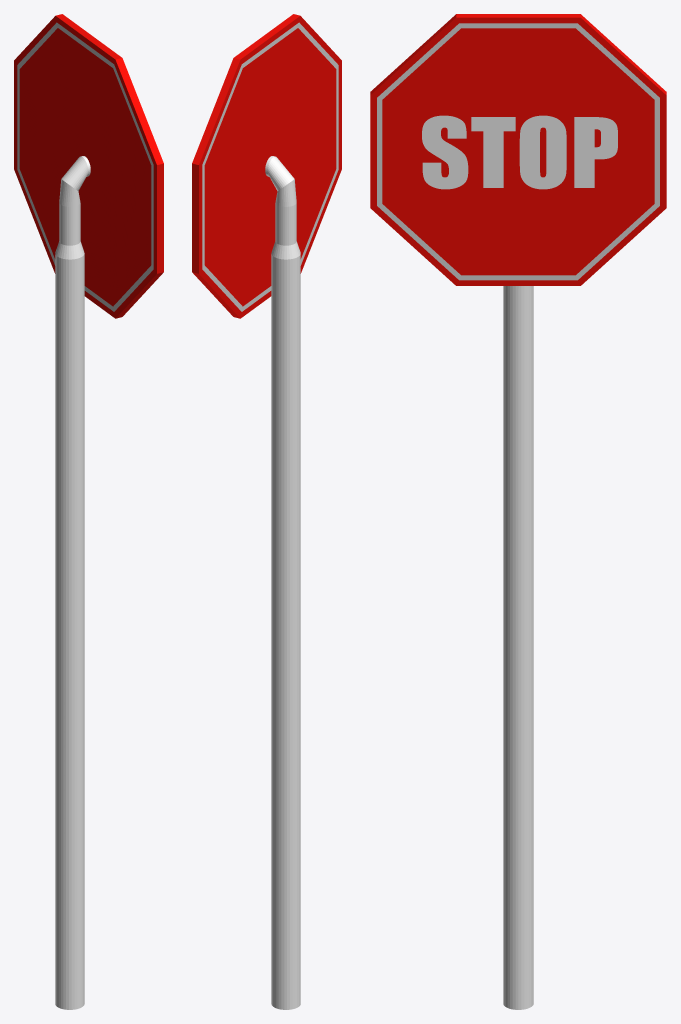
File: Stop Sign.fbx
3 views of the same model, side by side, from view 1: azimuth 30°, elevation 25°; view 2: azimuth 150°, elevation 25°; view 3: azimuth 270°, elevation 25° (orthographic). The views are drawn at different scales.
Parts seen in each view (by area): view 1: Cylinder; view 2: Cylinder; view 3: Cylinder.
Part boxes in pixels (x1,y1,x2,y2): Cylinder: (14,14,163,1009); Cylinder: (192,14,341,1009); Cylinder: (370,14,666,1009).
Size of the model in its own units: 29.54 by 743 by 200.
